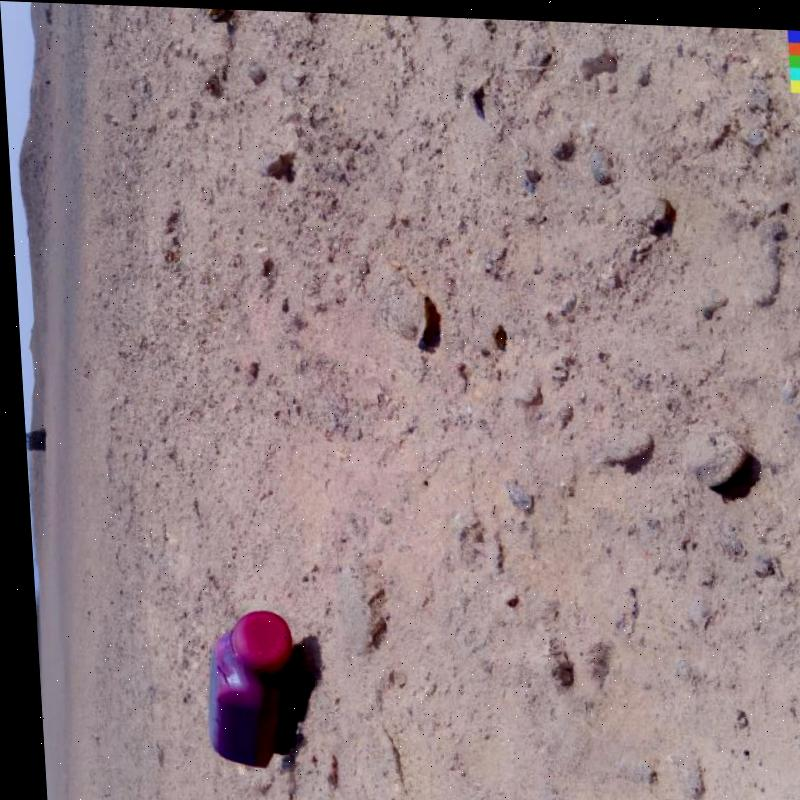botella: (193, 605, 305, 767)
